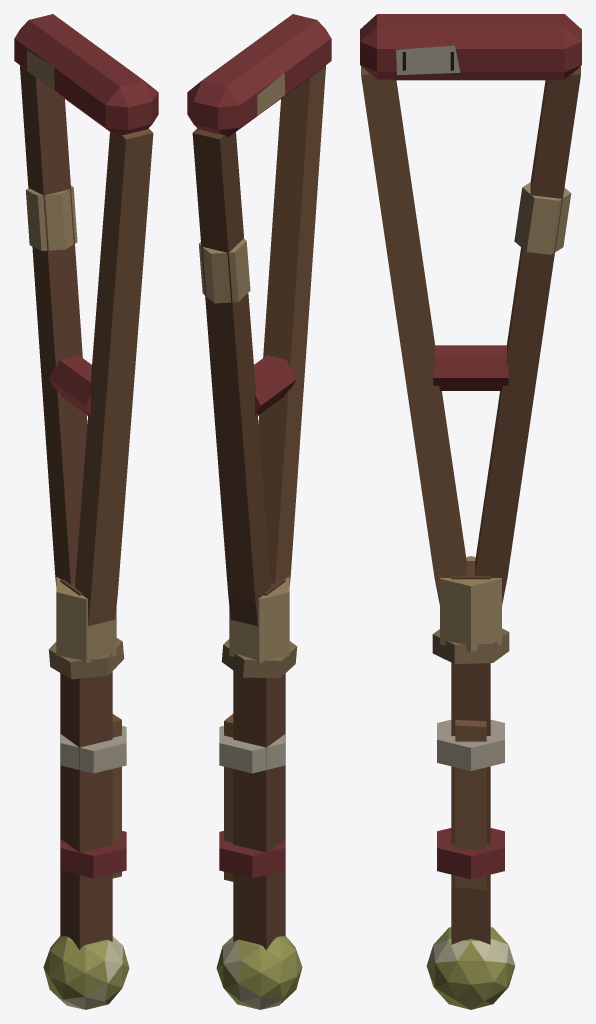
The model's file is tl_prop_crutch_v01.glb.
3 renders of one model, left to right at view 1: azimuth 30°, elevation 25°; view 2: azimuth 150°, elevation 25°; view 3: azimuth 270°, elevation 25°, orthographic. The views are drawn at different scales.
Parts seen in each view (by area): view 1: tl_prop_crutch_v01; view 2: tl_prop_crutch_v01; view 3: tl_prop_crutch_v01.
Part boxes in pixels (x1,y1,x2,y2): tl_prop_crutch_v01: (14,14,158,1009); tl_prop_crutch_v01: (187,14,331,1009); tl_prop_crutch_v01: (360,14,581,1009).
Bounding box in the file's own units: 0.108 × 1.27 × 0.26.
